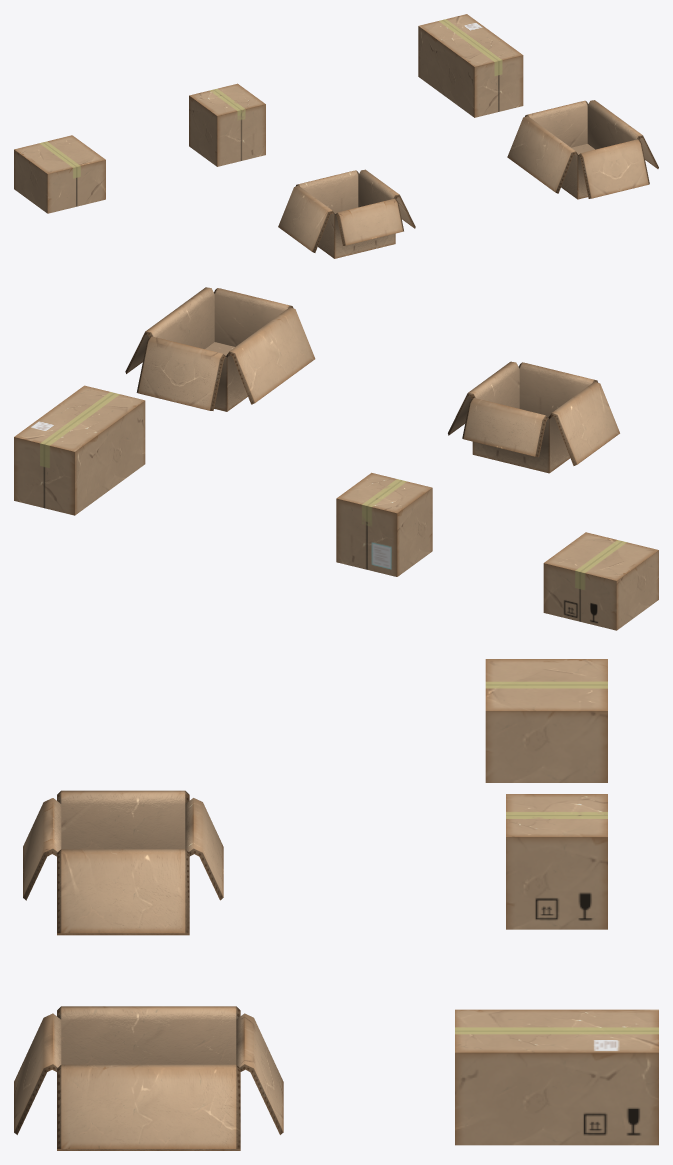
Rendered from Cardboard Box.obj.
3 renders of one model, top to bottom at view 1: azimuth 30°, elevation 25°; view 2: azimuth 150°, elevation 25°; view 3: azimuth 270°, elevation 25°, orthographic. The views are drawn at different scales.
Parts seen in each view (by area): view 1: Cardboard_Box; view 2: Cardboard_Box; view 3: Cardboard_Box.
Boxes of the visible parts, box(x1,y1,x2,y2) form: Cardboard_Box: box(14, 14, 658, 258); Cardboard_Box: box(14, 287, 658, 630); Cardboard_Box: box(14, 659, 658, 1150).
Size of the model in its own units: 20.33 by 2 by 12.64.
